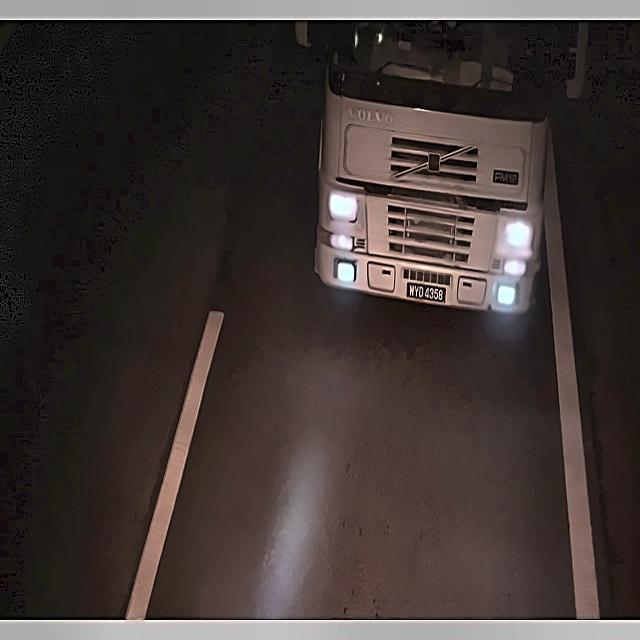car: (406, 281, 448, 311)
